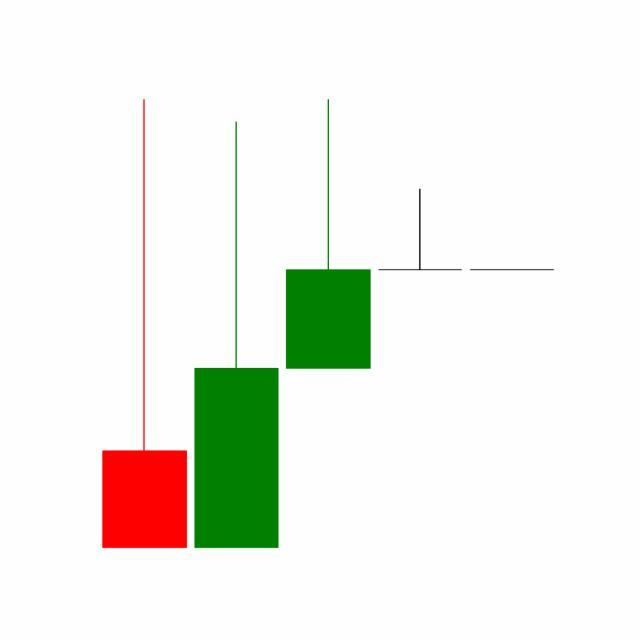Gravestone Doji: (374, 189, 468, 272)
